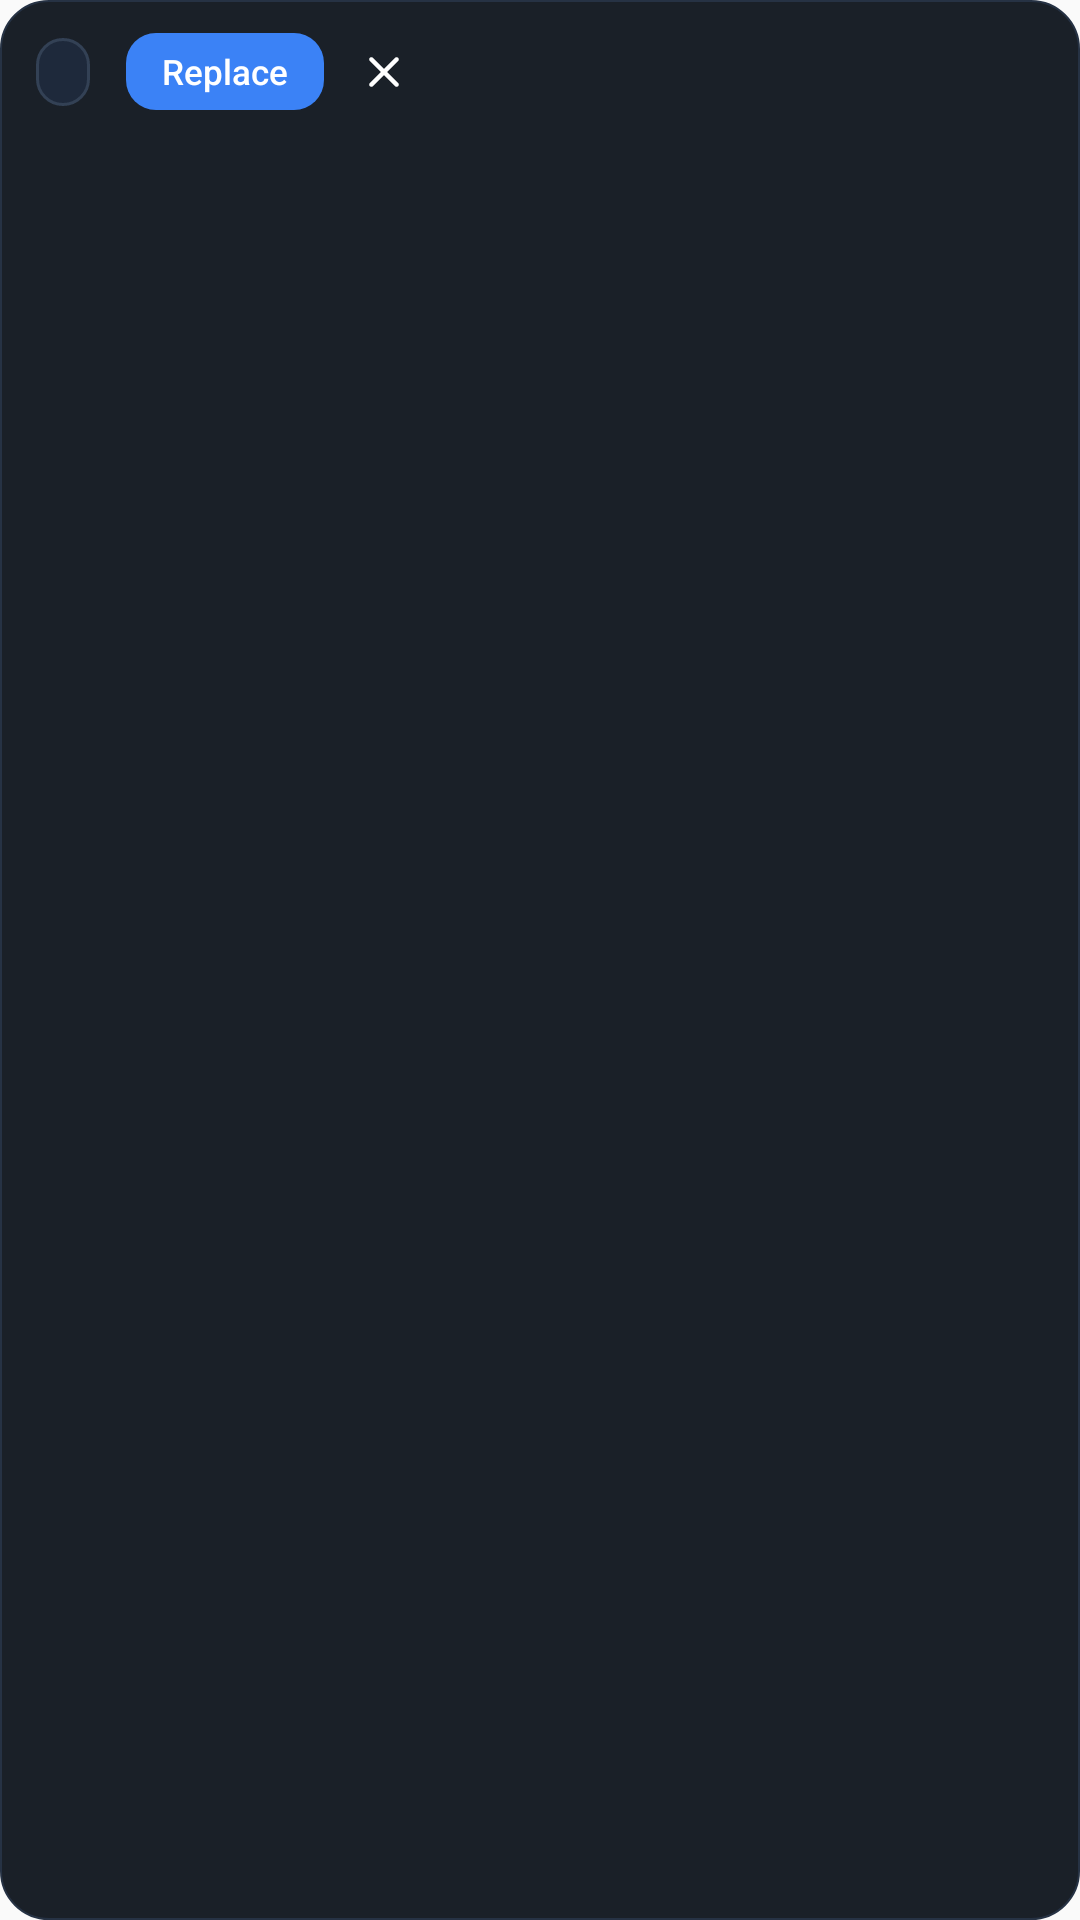

Screen size 1080*1920. Icon name, then its box in pixels as rect(x1, y1, x2, y2):
Dismiss translation preview: rect(369, 57, 399, 87)
